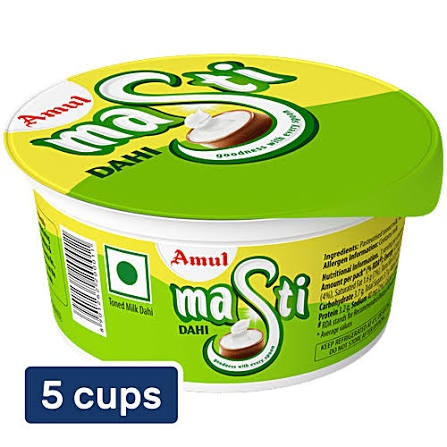Amul-masti: (15, 57, 445, 434)
